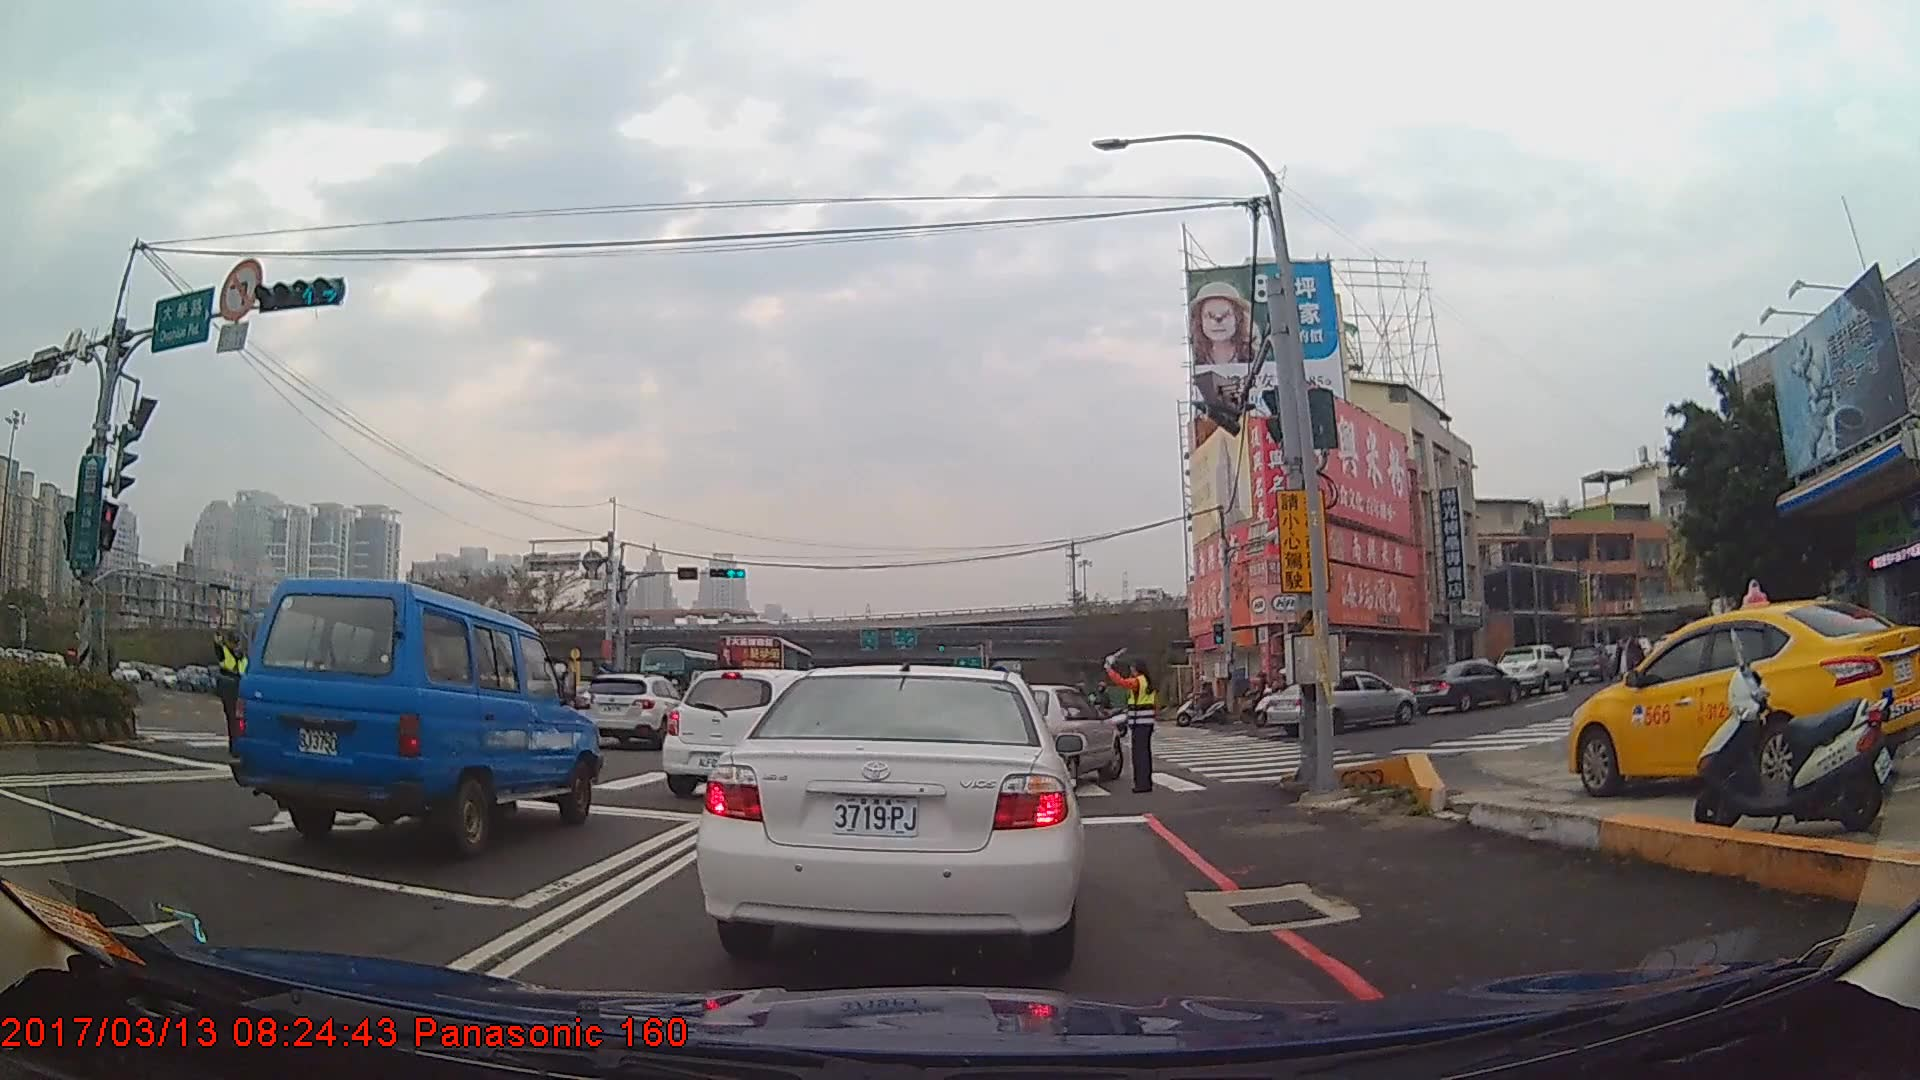pedestrian: (1106, 642, 1159, 792), (212, 633, 253, 759), (1606, 626, 1646, 724)
rider: (1071, 682, 1131, 739), (1253, 667, 1303, 725), (1177, 673, 1229, 728), (1240, 669, 1281, 725)
vehicle: (697, 661, 1084, 963), (227, 573, 600, 856), (1567, 598, 1920, 797), (659, 667, 860, 798), (984, 682, 1121, 788), (1264, 669, 1417, 737), (573, 672, 688, 747), (715, 634, 814, 718), (1409, 658, 1518, 714), (1497, 645, 1572, 696), (1565, 641, 1616, 685)
